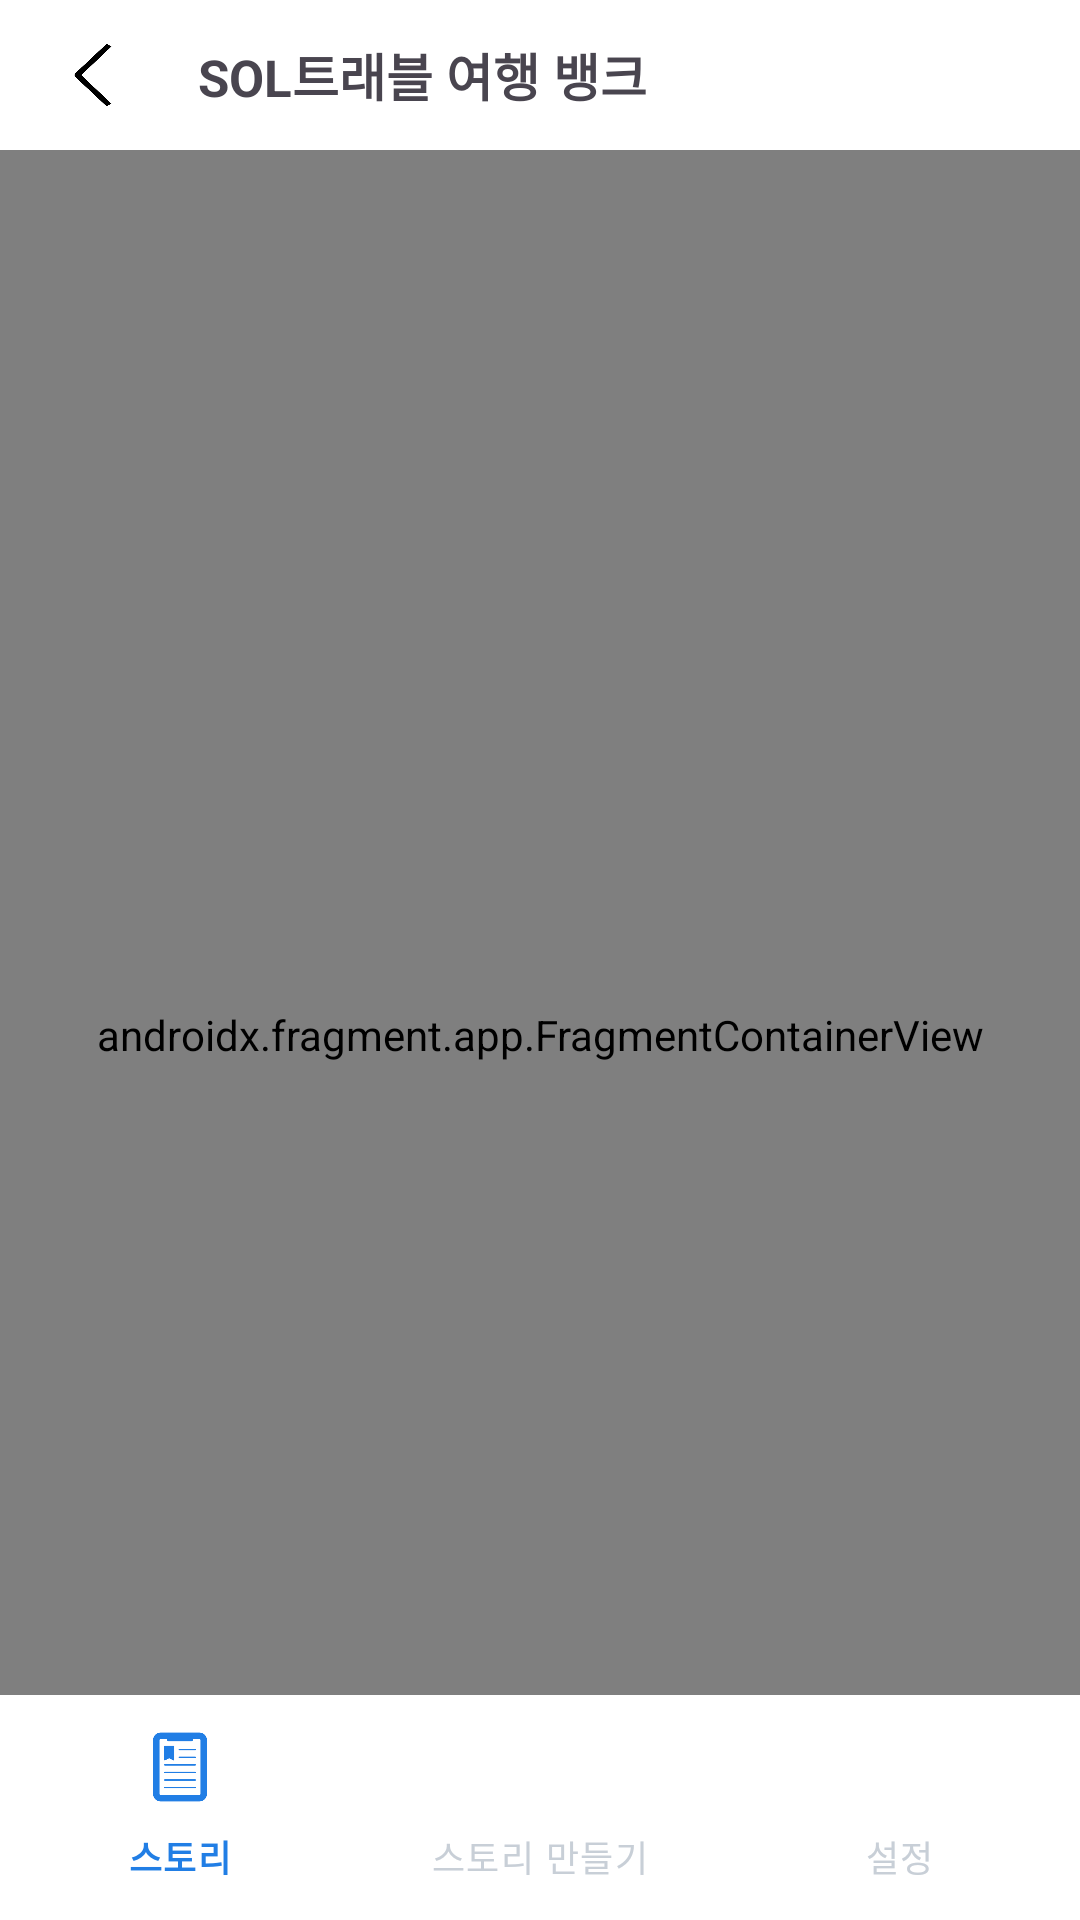

Icon bounding boxes for this 1080 x 1920 phone screenshot, format box(x1, y1, x2, y2):
back: box(74, 44, 111, 106)
